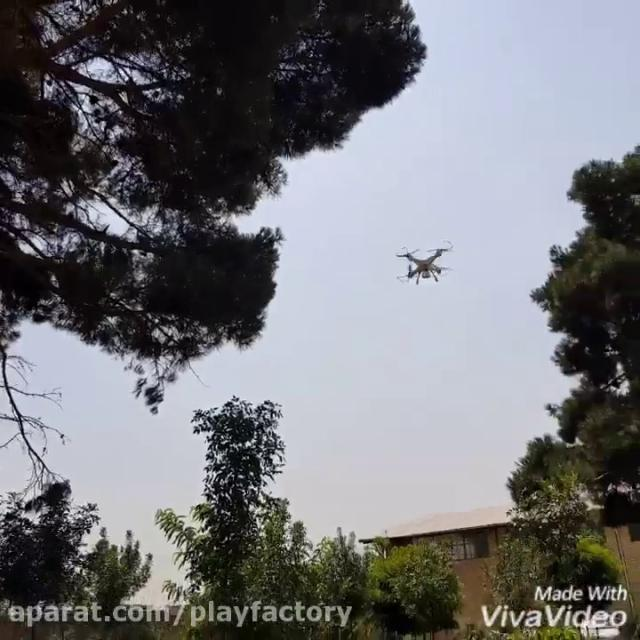drone: (390, 233, 459, 289)
